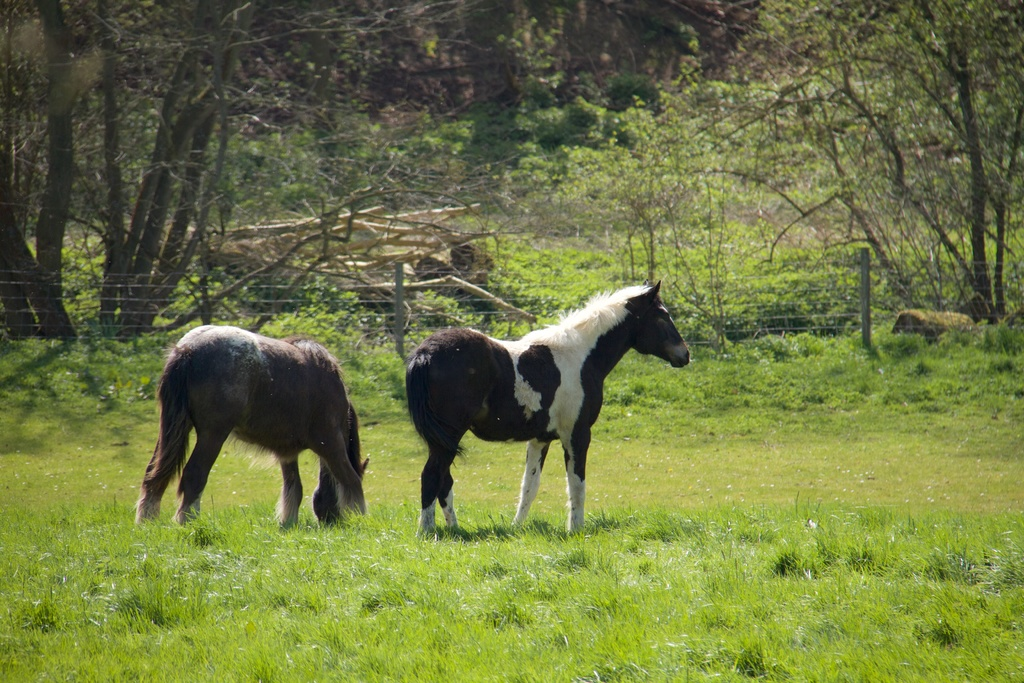horse: (401, 279, 689, 533), (131, 328, 369, 534)
